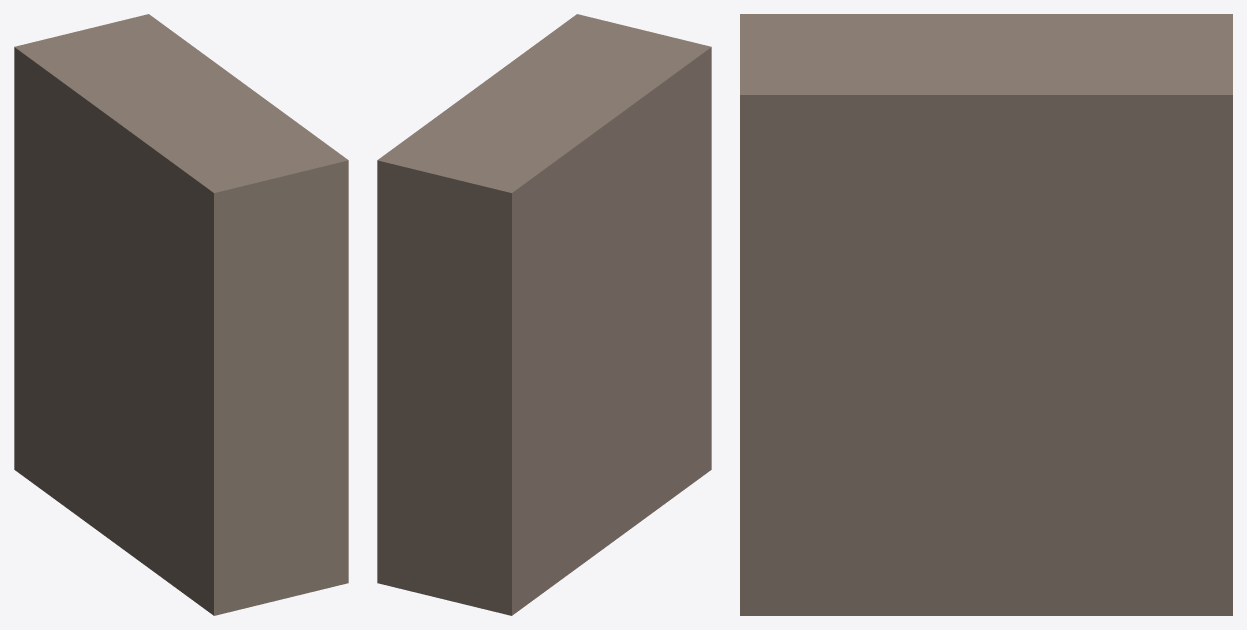
The model's file is wardrobe.glb.
3 renders of one model, left to right at view 1: azimuth 30°, elevation 25°; view 2: azimuth 150°, elevation 25°; view 3: azimuth 270°, elevation 25°, orthographic. The views are drawn at different scales.
Parts seen in each view (by area): view 1: wardrobe; view 2: wardrobe; view 3: wardrobe.
Boxes of the visible parts, x1,y1,x2,y2 form: wardrobe: [14, 14, 348, 615]; wardrobe: [377, 14, 711, 615]; wardrobe: [740, 14, 1232, 615].
Size of the model in its own units: 0.7 by 2.1 by 1.8.
